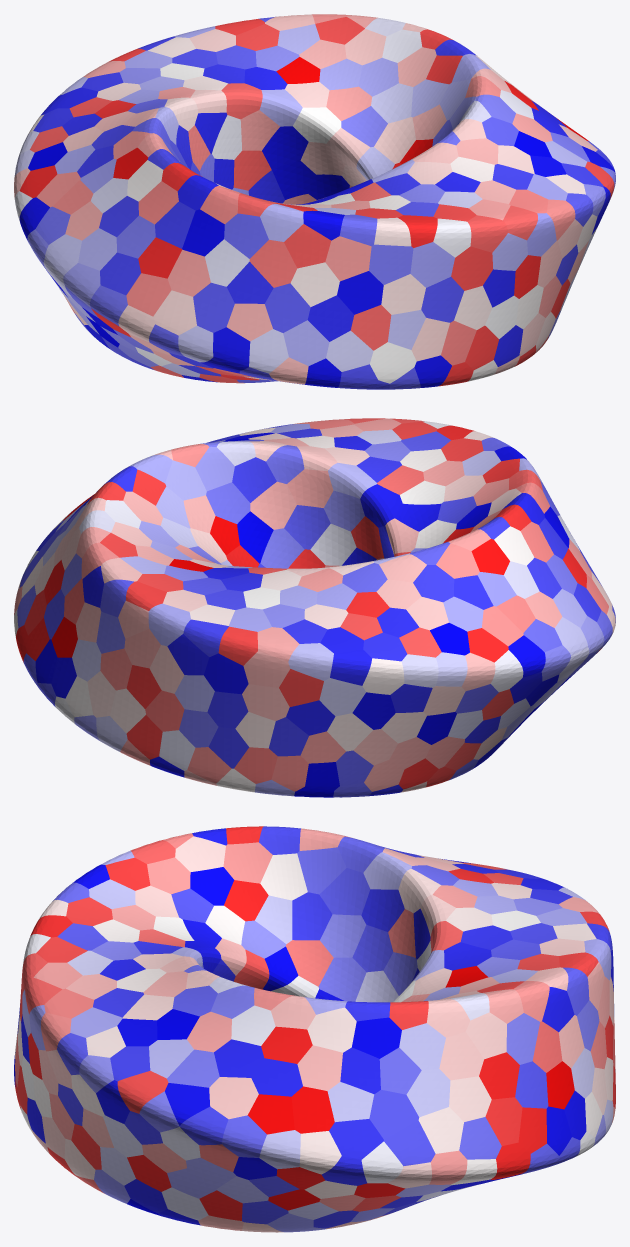
Rendered from Ours_600_mobius1_Iter5_RVD.obj.
3 renders of one model, top to bottom at view 1: azimuth 30°, elevation 25°; view 2: azimuth 150°, elevation 25°; view 3: azimuth 270°, elevation 25°, orthographic. The views are drawn at different scales.
Visible parts, largest first — view 1: 3D_Object; view 2: 3D_Object; view 3: 3D_Object.
Boxes of the visible parts, x1,y1,x2,y2 form: 3D_Object: [14, 14, 615, 389]; 3D_Object: [14, 418, 615, 797]; 3D_Object: [14, 826, 615, 1232].
Size of the model in its own units: 6.8 by 2.63 by 6.26.
Materials: 1 (1 with a texture image).
